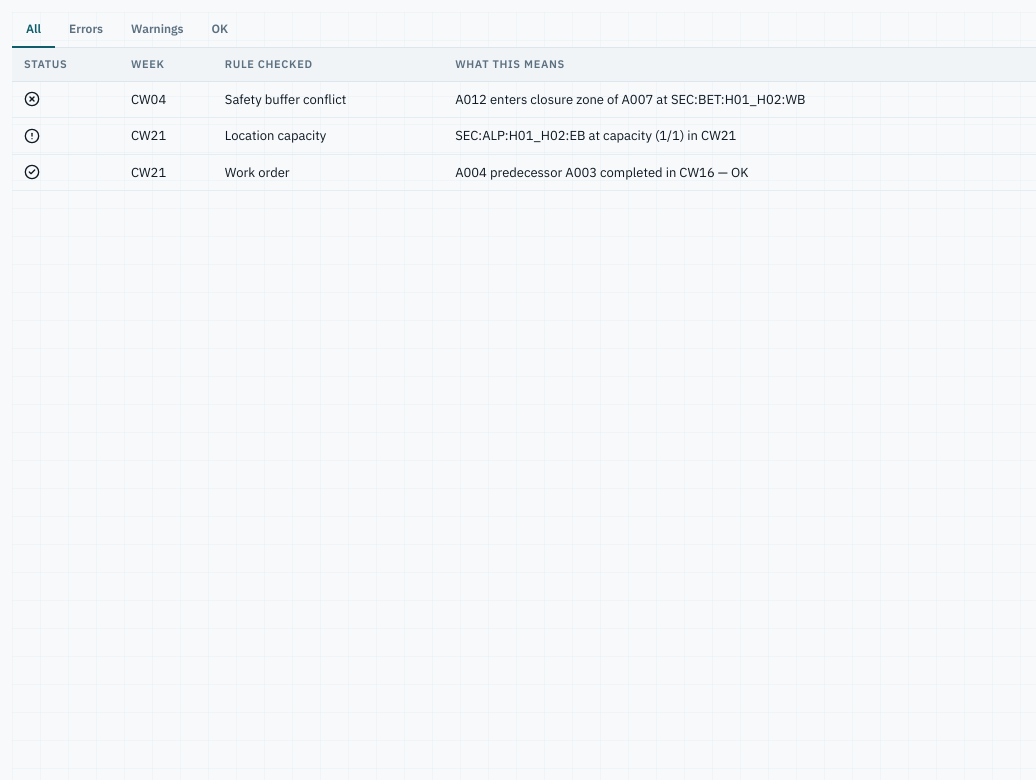
Test: ValidationLog › filters to errors tab
Click the tab "Errors" at (86, 30), box left=55, top=12, right=117, bottom=48
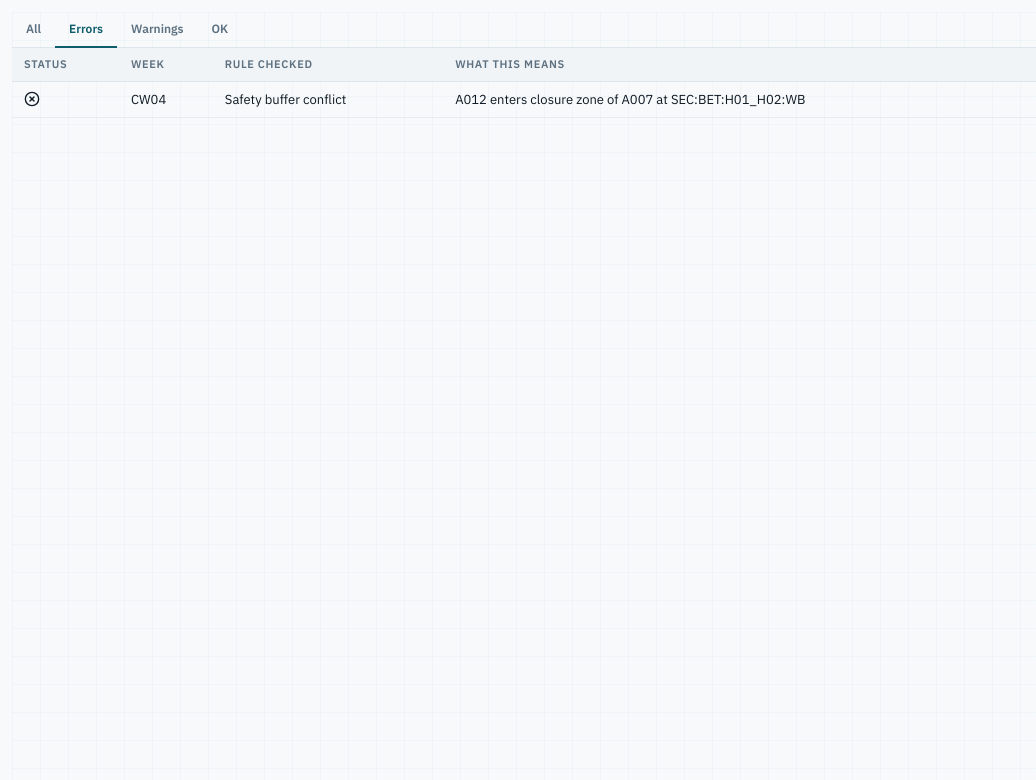
Check: the text "A012 enters closure zone of A007 at SEC:BET:H01_H02:WB" is shown, box left=443, top=81, right=1035, bottom=118
Check: the text "SEC:ALP:H01_H02:EB at capacity" is gone
